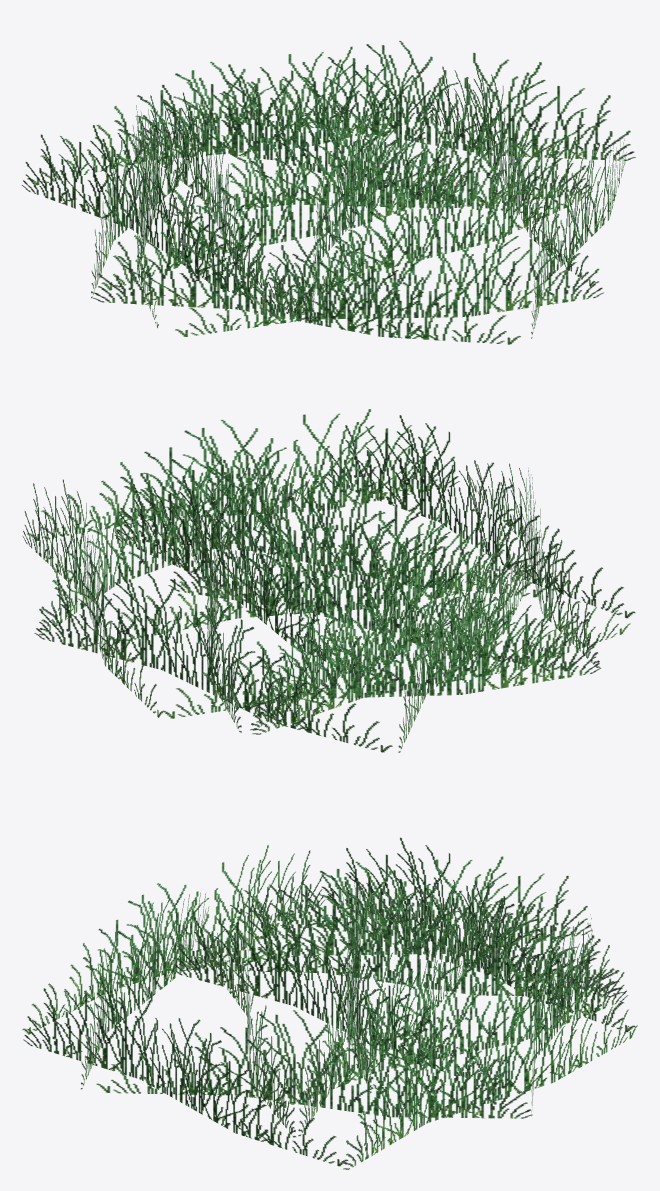
The model's file is BUSH80.glb.
3 renders of one model, top to bottom at view 1: azimuth 30°, elevation 25°; view 2: azimuth 150°, elevation 25°; view 3: azimuth 270°, elevation 25°, orthographic. The views are drawn at different scales.
Parts seen in each view (by area): view 1: BUSH80; view 2: BUSH80; view 3: BUSH80.
Part boxes in pixels (x1=…): BUSH80: x1=21, y1=41, x2=635, y2=344; BUSH80: x1=22, y1=409, x2=635, y2=752; BUSH80: x1=22, y1=837, x2=637, y2=1169.
Bounding box in the file's own units: 8.98 × 1.77 × 8.68.
1 material, 1 textured.
